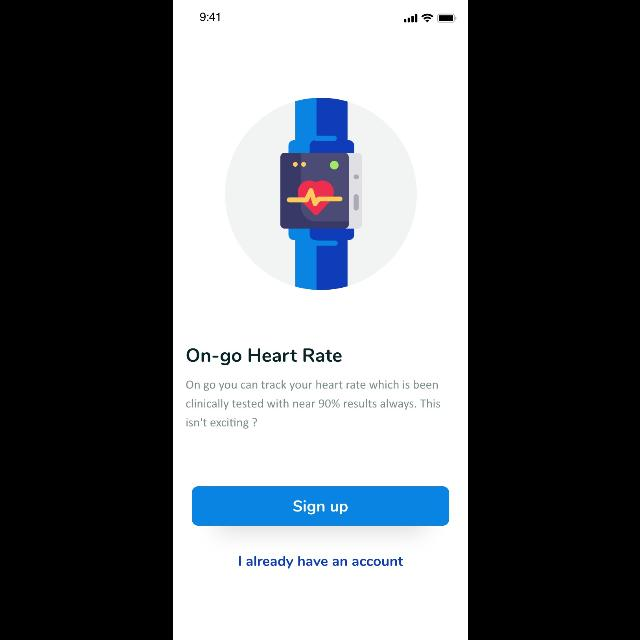image: (224, 98, 416, 290)
text: (185, 380, 439, 430), (185, 348, 341, 366), (239, 556, 403, 568)
textbutton: (191, 486, 449, 526)
uppertaskbar: (199, 12, 456, 24)
